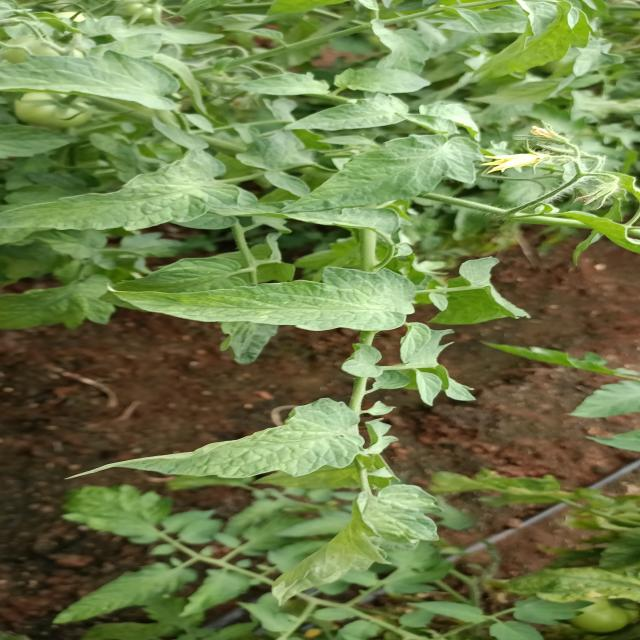Healthy Leaf: (74, 397, 359, 500), (114, 265, 419, 341), (271, 134, 478, 225)
